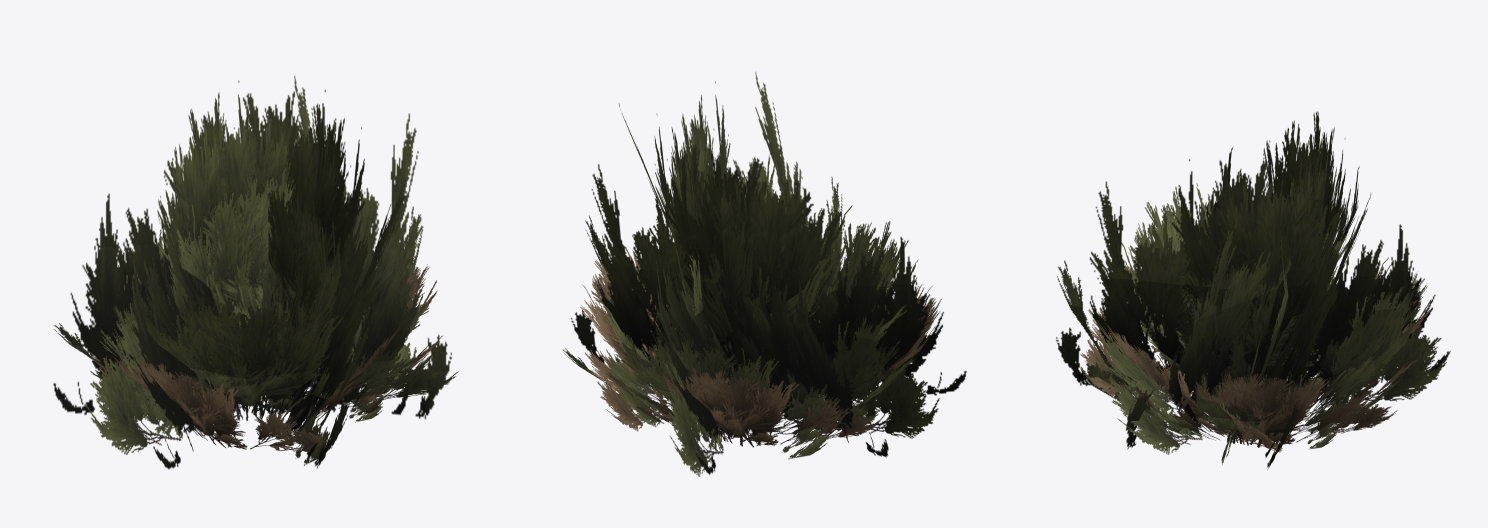
The model's file is Bush_D.glb.
The picture shows the model from 3 angles, left to right: view 1: azimuth 30°, elevation 25°; view 2: azimuth 150°, elevation 25°; view 3: azimuth 270°, elevation 25°; orthographic projection.
Parts seen in each view (by area): view 1: BushD_LOD0; view 2: BushD_LOD0; view 3: BushD_LOD0.
Part boxes in pixels (x1,y1,x2,y2): BushD_LOD0: (53, 75, 458, 469); BushD_LOD0: (562, 72, 966, 476); BushD_LOD0: (1056, 111, 1450, 469).
Size of what is drawn, in the model's own units: 2.43 by 1.72 by 2.34.
Materials: 1 (1 with a texture image).
